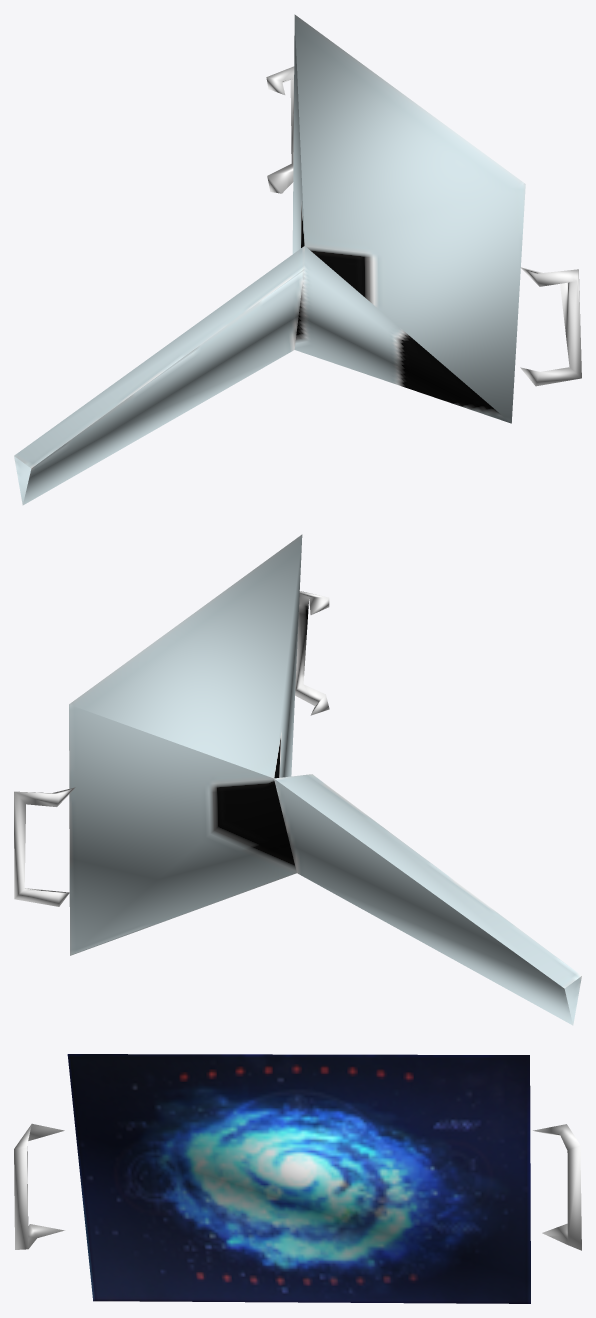
The model's file is screen_1.obj.
3 views of the same model, one above another, from view 1: azimuth 30°, elevation 25°; view 2: azimuth 150°, elevation 25°; view 3: azimuth 270°, elevation 25° (orthographic).
Parts seen in each view (by area): view 1: 8.Screen_1; view 2: 8.Screen_1; view 3: 8.Screen_1.
Part boxes in pixels (x1,y1,x2,y2): 8.Screen_1: [14, 14, 581, 505]; 8.Screen_1: [14, 534, 581, 1025]; 8.Screen_1: [14, 1054, 581, 1303].
Bounding box in the file's own units: 0.5267 × 0.3744 × 0.6201.
1 material, 1 textured.
